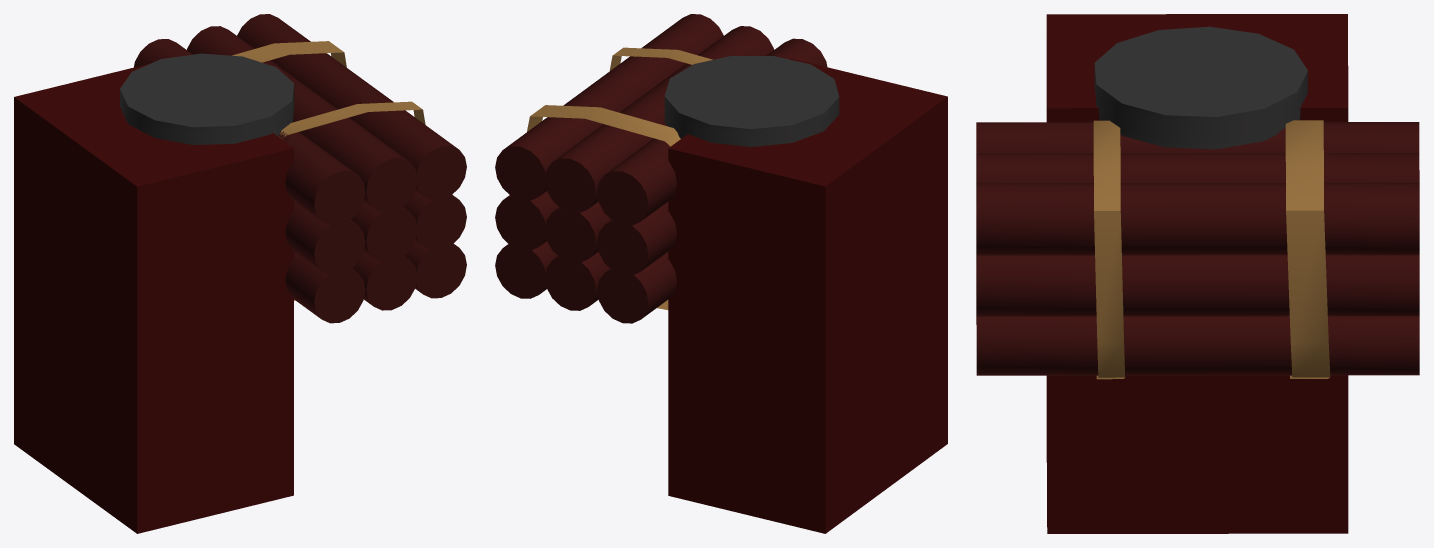
File: kipno.fbx
3 renders of one model, left to right at view 1: azimuth 30°, elevation 25°; view 2: azimuth 150°, elevation 25°; view 3: azimuth 270°, elevation 25°, orthographic. The views are drawn at different scales.
Parts seen in each view (by area): view 1: Null; view 2: Null; view 3: Null.
Boxes of the visible parts, <box> form: Null: <box>14,14,466,533</box>; Null: <box>495,14,947,533</box>; Null: <box>976,14,1419,533</box>.
Size of the model in its own units: 9.51 by 10.29 by 9.24.
